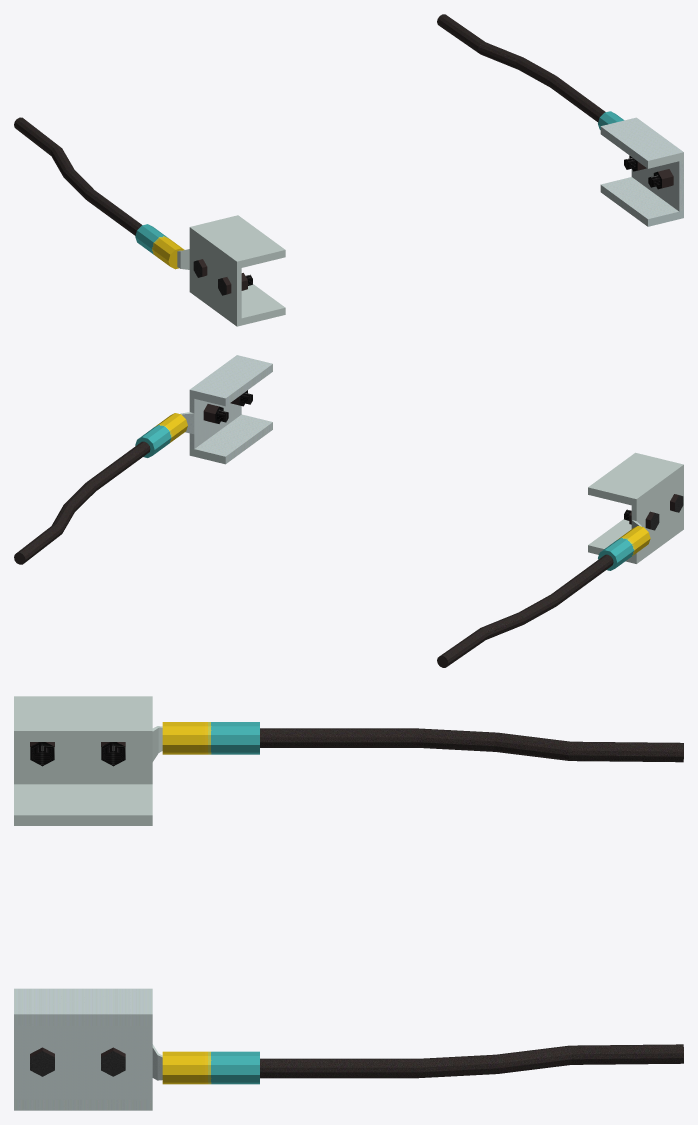
The model's file is jdx001-geode.glb.
3 views of the same model, one above another, from view 1: azimuth 30°, elevation 25°; view 2: azimuth 150°, elevation 25°; view 3: azimuth 270°, elevation 25° (orthographic). The views are drawn at different scales.
Parts seen in each view (by area): view 1: Node; view 2: Node; view 3: Node.
Part boxes in pixels (left/top/right/bottom): Node: left=14, top=14, right=683, bottom=326; Node: left=14, top=355, right=683, bottom=667; Node: left=14, top=696, right=683, bottom=1110.
Bounding box in the file's own units: 0.5004 × 0.0654 × 0.4122.
Materials: 6 (6 with a texture image).
